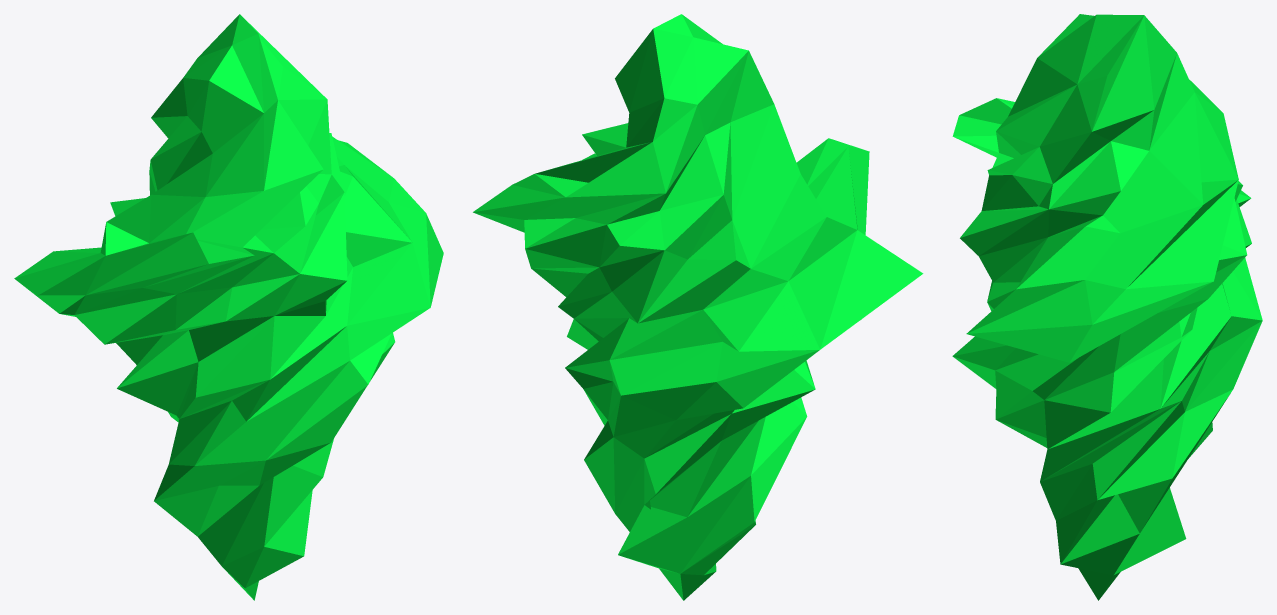
The model's file is Crystal_028.fbx.
3 views of the same model, side by side, from view 1: azimuth 30°, elevation 25°; view 2: azimuth 150°, elevation 25°; view 3: azimuth 270°, elevation 25° (orthographic). The views are drawn at different scales.
Visible parts, largest first — view 1: Crystal.028; view 2: Crystal.028; view 3: Crystal.028.
Part boxes in pixels (left/top/right/bottom): Crystal.028: left=14, top=14, right=443, bottom=600; Crystal.028: left=473, top=14, right=923, bottom=600; Crystal.028: left=952, top=14, right=1262, bottom=600.
Size of the model in its own units: 326 by 443 by 211.
